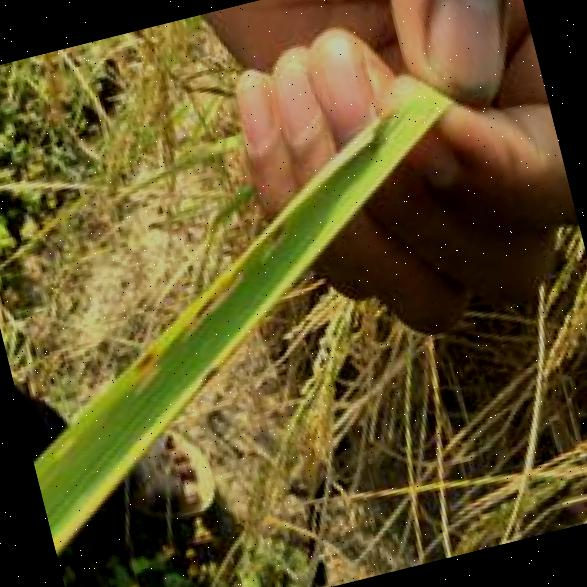Brown_Spot: (172, 268, 250, 316), (250, 206, 293, 246), (123, 340, 157, 370)
